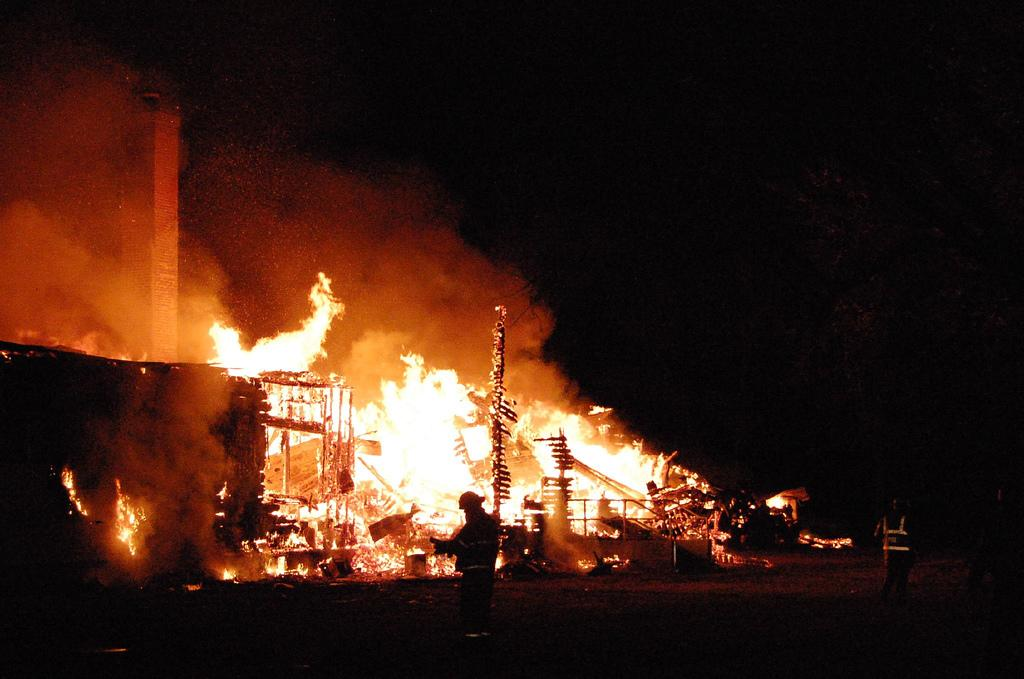fire: (385, 398, 460, 502), (578, 450, 652, 487), (240, 338, 310, 370)
